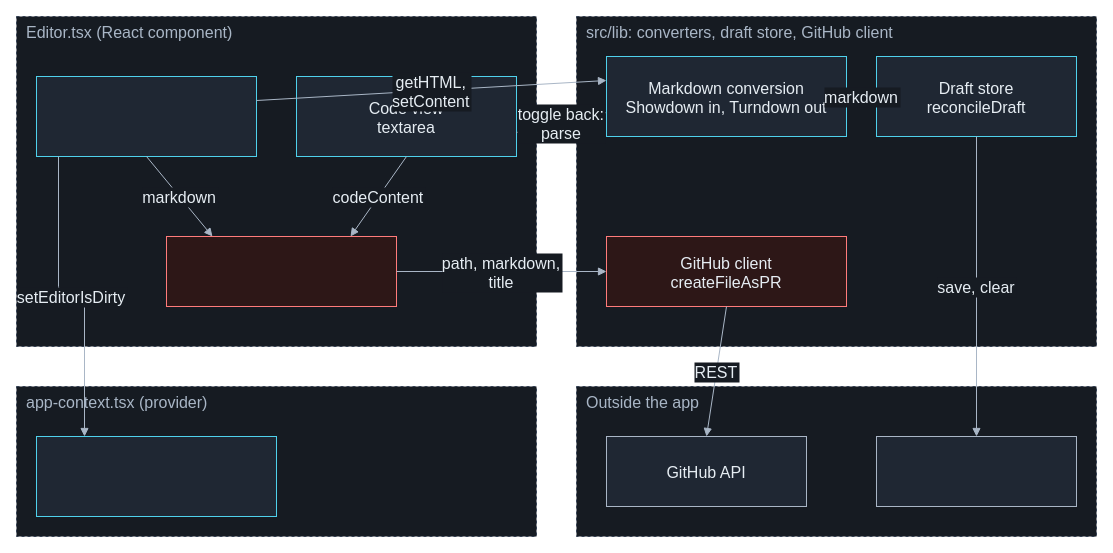
Image size: 1113x553. Some labels were removed from this diagram. The shapes that lost their labels are listed below. From the top down, each one's centre as x and y in pixels, then its label:
the point at 146,116: Rich editor TipTap
the point at 281,271: Save handlers (in Editor.tsx)
the point at 156,476: Navigation guard guardNavigation
the point at 976,471: localStorage drafts
